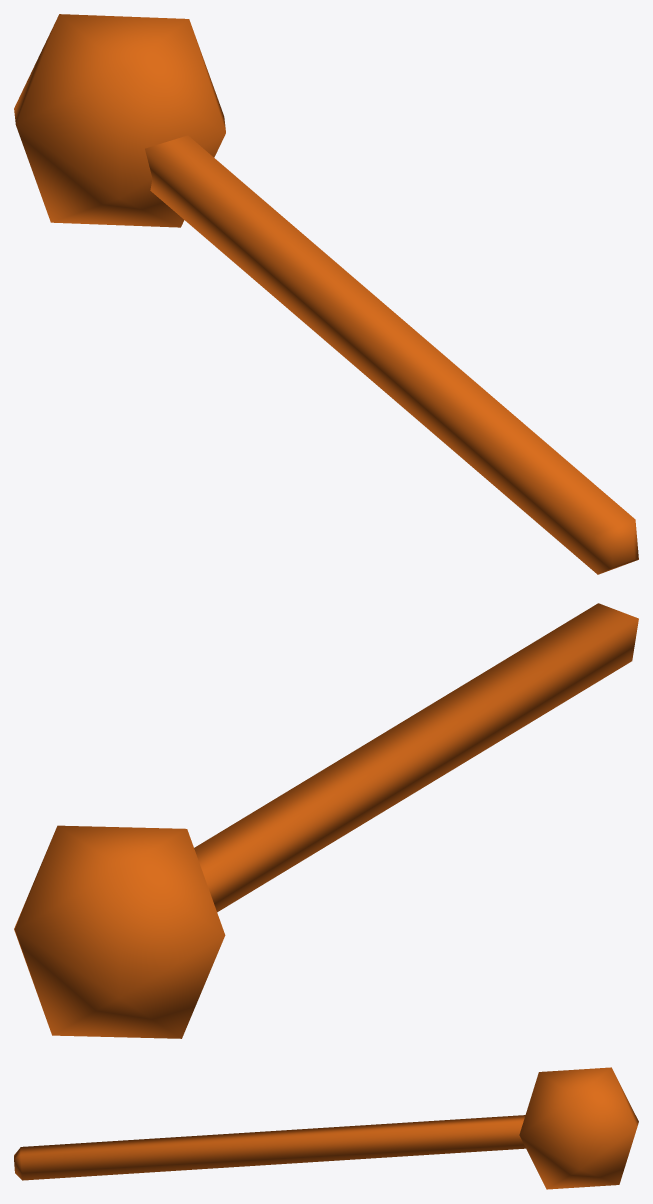
Rendered from xylophone_pulsatile_01.FBX.
3 renders of one model, top to bottom at view 1: azimuth 30°, elevation 25°; view 2: azimuth 150°, elevation 25°; view 3: azimuth 270°, elevation 25°, orthographic. The views are drawn at different scales.
Visible parts, largest first — view 1: xylophone_pulsatile_01; view 2: xylophone_pulsatile_01; view 3: xylophone_pulsatile_01.
Part boxes in pixels (<box>): xylophone_pulsatile_01: <box>14,14,638,574</box>; xylophone_pulsatile_01: <box>14,603,638,1038</box>; xylophone_pulsatile_01: <box>14,1067,638,1189</box>.
Bounding box in the file's own units: 333 × 283 × 1528.
